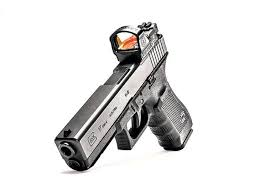gun: (50, 19, 210, 170)
